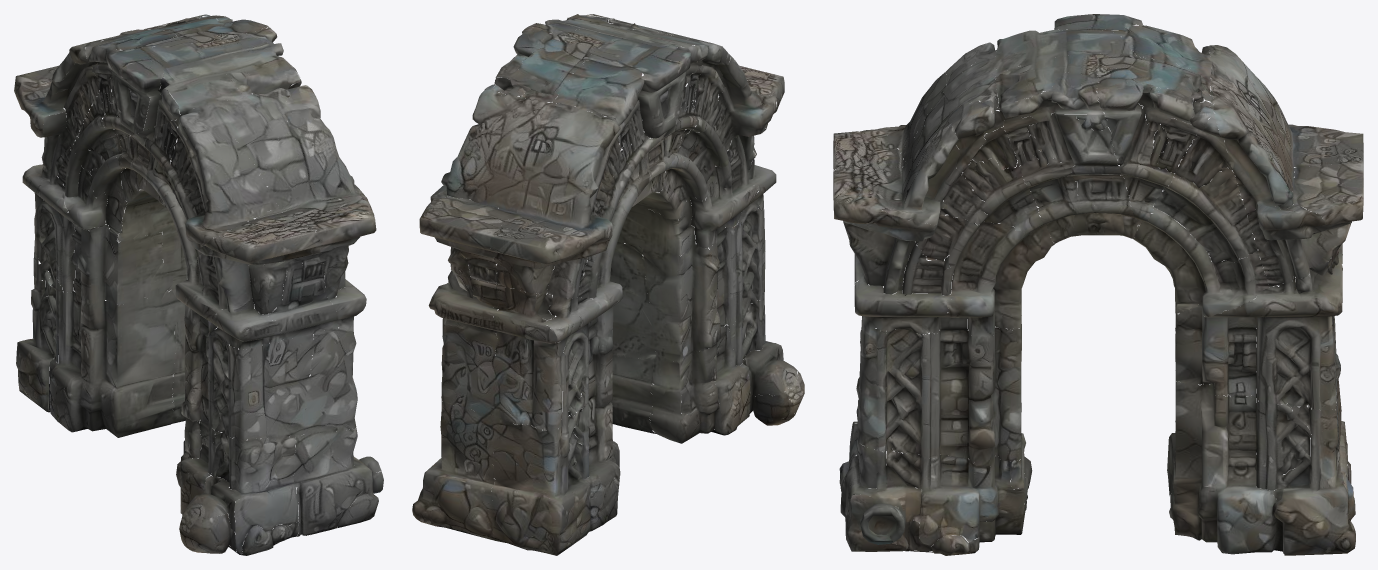
Rendered from ruin_arch_portal_LOD0.glb.
3 views of the same model, side by side, from view 1: azimuth 30°, elevation 25°; view 2: azimuth 150°, elevation 25°; view 3: azimuth 270°, elevation 25° (orthographic). The views are drawn at different scales.
Parts seen in each view (by area): view 1: tripo_node_d8a1d5da-c2f6-40ee-9562-3897e08a0c6e; view 2: tripo_node_d8a1d5da-c2f6-40ee-9562-3897e08a0c6e; view 3: tripo_node_d8a1d5da-c2f6-40ee-9562-3897e08a0c6e.
Part boxes in pixels (x1=…): tripo_node_d8a1d5da-c2f6-40ee-9562-3897e08a0c6e: x1=14, y1=14, x2=383, y2=555; tripo_node_d8a1d5da-c2f6-40ee-9562-3897e08a0c6e: x1=412, y1=14, x2=804, y2=555; tripo_node_d8a1d5da-c2f6-40ee-9562-3897e08a0c6e: x1=833, y1=14, x2=1363, y2=555.
Bounding box in the file's own units: 0.4605 × 0.9998 × 1.
1 material, 1 textured.
